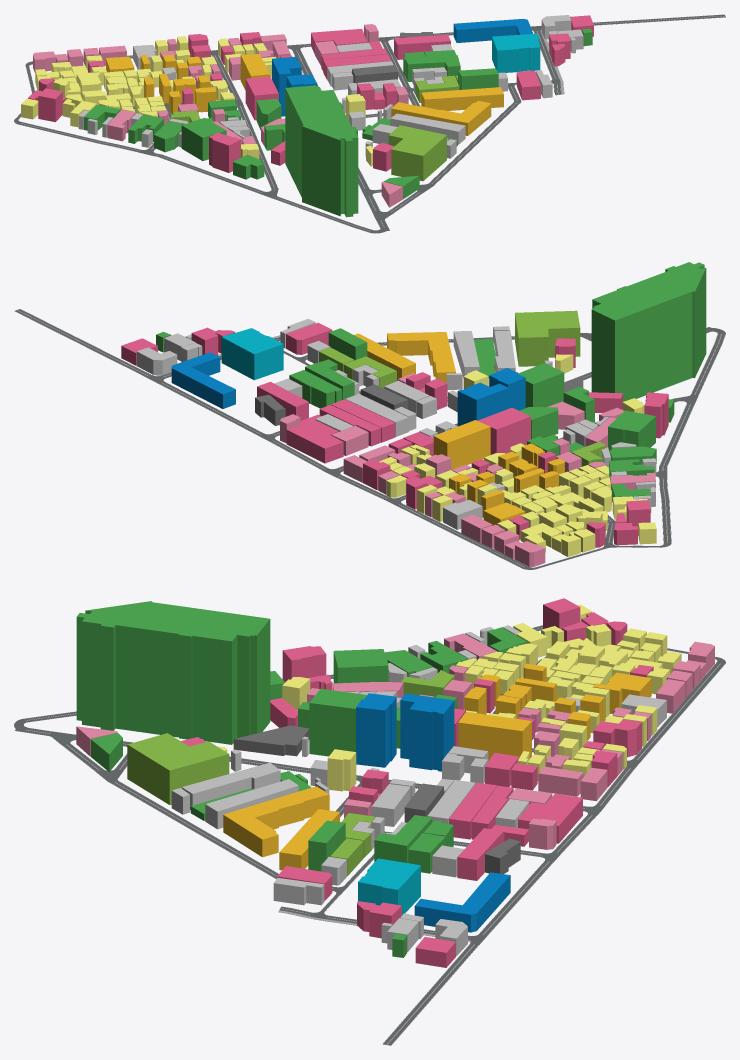
File: seongsu2.glb
The picture shows the model from 3 angles, top to bottom: view 1: azimuth 30°, elevation 25°; view 2: azimuth 150°, elevation 25°; view 3: azimuth 270°, elevation 25°; orthographic projection. The views are drawn at different scales.
Visible parts, largest first — view 1: mesh_CityEngineMaterial_1, mesh_CityEngineMaterial, mesh_CityEngineMaterial_5, mesh_CityEngineMaterial_2, mesh_CityEngineMaterial_10, mesh_Asphalt_TireMarkings_2x2_cBasaltGrey, mesh_CityEngineMaterial_6, mesh_CityEngineMaterial_7, mesh_CityEngineMaterial_8, mesh_CityEngineMaterial_4, mesh_Markings_Standard_1x1_cPureWhite, mesh_Asphalt_Standard_2x2_cBasaltGrey (+1 smaller); view 2: mesh_CityEngineMaterial_1, mesh_CityEngineMaterial, mesh_CityEngineMaterial_5, mesh_CityEngineMaterial_2, mesh_CityEngineMaterial_10, mesh_CityEngineMaterial_6, mesh_Asphalt_TireMarkings_2x2_cBasaltGrey, mesh_CityEngineMaterial_8, mesh_CityEngineMaterial_7, mesh_CityEngineMaterial_4, mesh_CityEngineMaterial_9, mesh_Markings_Standard_1x1_cPureWhite (+1 smaller); view 3: mesh_CityEngineMaterial_1, mesh_CityEngineMaterial, mesh_CityEngineMaterial_2, mesh_CityEngineMaterial_5, mesh_CityEngineMaterial_10, mesh_CityEngineMaterial_6, mesh_CityEngineMaterial_8, mesh_Asphalt_TireMarkings_2x2_cBasaltGrey, mesh_CityEngineMaterial_7, mesh_CityEngineMaterial_9, mesh_CityEngineMaterial_4, mesh_Markings_Standard_1x1_cPureWhite (+1 smaller).
Boxes of the visible parts, x1=… form: mesh_CityEngineMaterial_1: x1=84, y1=28, x2=592, y2=217; mesh_CityEngineMaterial: x1=28, y1=15, x2=593, y2=172; mesh_CityEngineMaterial_5: x1=21, y1=36, x2=374, y2=166; mesh_CityEngineMaterial_2: x1=78, y1=15, x2=583, y2=158; mesh_CityEngineMaterial_10: x1=106, y1=53, x2=503, y2=135; mesh_Asphalt_TireMarkings_2x2_cBasaltGrey: x1=16, y1=14, x2=725, y2=232; mesh_CityEngineMaterial_6: x1=33, y1=24, x2=408, y2=207; mesh_CityEngineMaterial_7: x1=170, y1=75, x2=459, y2=181; mesh_CityEngineMaterial_8: x1=272, y1=18, x2=533, y2=116; mesh_CityEngineMaterial_4: x1=492, y1=33, x2=540, y2=72; mesh_Markings_Standard_1x1_cPureWhite: x1=16, y1=14, x2=724, y2=230; mesh_Asphalt_Standard_2x2_cBasaltGrey: x1=14, y1=25, x2=560, y2=233; mesh_CityEngineMaterial_1: x1=156, y1=262, x2=706, y2=502; mesh_CityEngineMaterial: x1=121, y1=322, x2=668, y2=547; mesh_CityEngineMaterial_5: x1=379, y1=354, x2=656, y2=556; mesh_CityEngineMaterial_2: x1=136, y1=319, x2=656, y2=529; mesh_CityEngineMaterial_10: x1=354, y1=332, x2=564, y2=525; mesh_CityEngineMaterial_6: x1=280, y1=373, x2=655, y2=566; mesh_Asphalt_TireMarkings_2x2_cBasaltGrey: x1=15, y1=309, x2=725, y2=568; mesh_CityEngineMaterial_8: x1=171, y1=352, x2=525, y2=426; mesh_CityEngineMaterial_7: x1=319, y1=310, x2=606, y2=466; mesh_CityEngineMaterial_4: x1=221, y1=328, x2=283, y2=380; mesh_CityEngineMaterial_9: x1=255, y1=376, x2=583, y2=425; mesh_Markings_Standard_1x1_cPureWhite: x1=18, y1=309, x2=725, y2=567; mesh_CityEngineMaterial_1: x1=76, y1=601, x2=526, y2=957; mesh_CityEngineMaterial: x1=181, y1=598, x2=653, y2=967; mesh_CityEngineMaterial_2: x1=171, y1=625, x2=666, y2=956; mesh_CityEngineMaterial_5: x1=218, y1=604, x2=681, y2=791; mesh_CityEngineMaterial_10: x1=223, y1=663, x2=651, y2=870; mesh_CityEngineMaterial_6: x1=76, y1=633, x2=714, y2=849; mesh_CityEngineMaterial_8: x1=356, y1=693, x2=510, y2=932; mesh_Asphalt_TireMarkings_2x2_cBasaltGrey: x1=15, y1=625, x2=724, y2=1045; mesh_CityEngineMaterial_7: x1=127, y1=670, x2=454, y2=876; mesh_CityEngineMaterial_9: x1=233, y1=725, x2=520, y2=873; mesh_CityEngineMaterial_4: x1=358, y1=858, x2=420, y2=915; mesh_Markings_Standard_1x1_cPureWhite: x1=17, y1=625, x2=724, y2=1045.
Size of the model in its own units: 517 by 60.01 by 363.
Materials: 16 (5 with a texture image).
